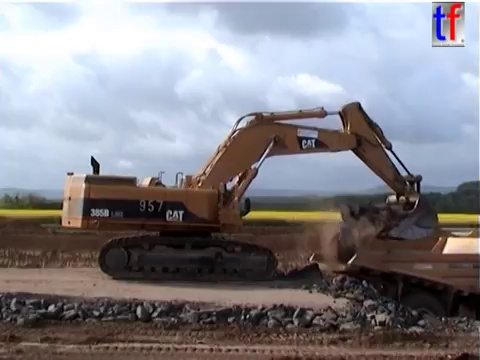excavator: (59, 99, 441, 285)
truck: (307, 221, 480, 345)
